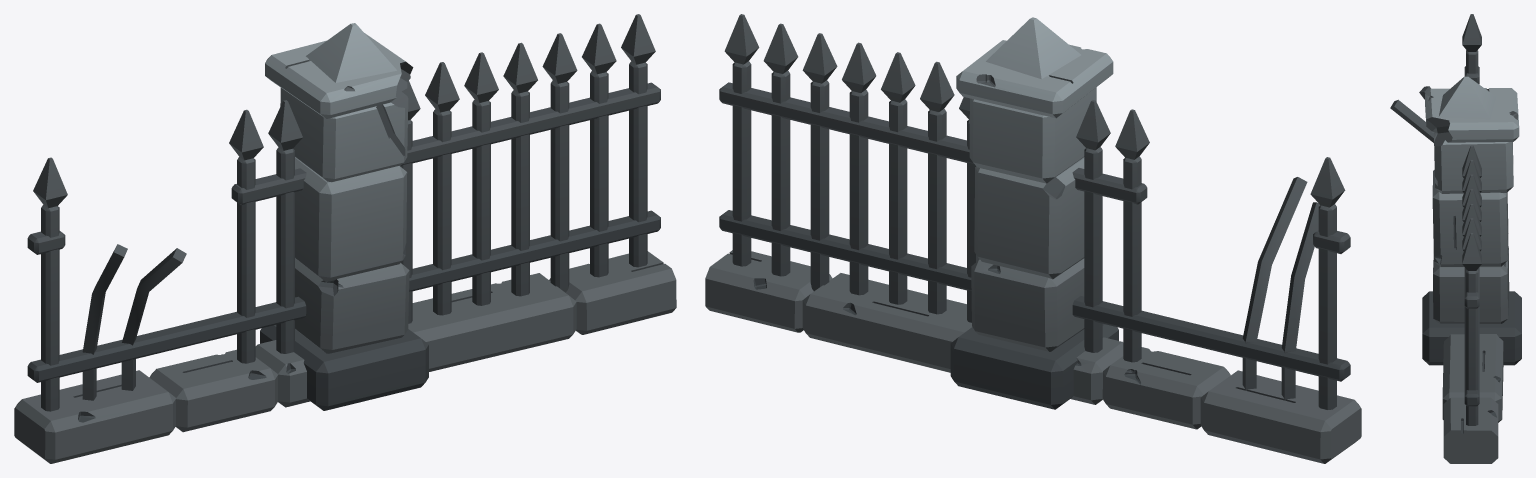
The model's file is graveyard_fence_broken.glb.
The picture shows the model from 3 angles, left to right: view 1: azimuth 30°, elevation 25°; view 2: azimuth 150°, elevation 25°; view 3: azimuth 270°, elevation 25°; orthographic projection. The views are drawn at different scales.
Parts seen in each view (by area): view 1: graveyard_fence_broken; view 2: graveyard_fence_broken; view 3: graveyard_fence_broken.
Boxes of the visible parts, x1,y1,x2,y2 form: graveyard_fence_broken: [14, 14, 676, 463]; graveyard_fence_broken: [705, 14, 1361, 463]; graveyard_fence_broken: [1390, 14, 1521, 463].
Size of the model in its own units: 4 by 2.17 by 0.953.
1 material, 1 textured.
